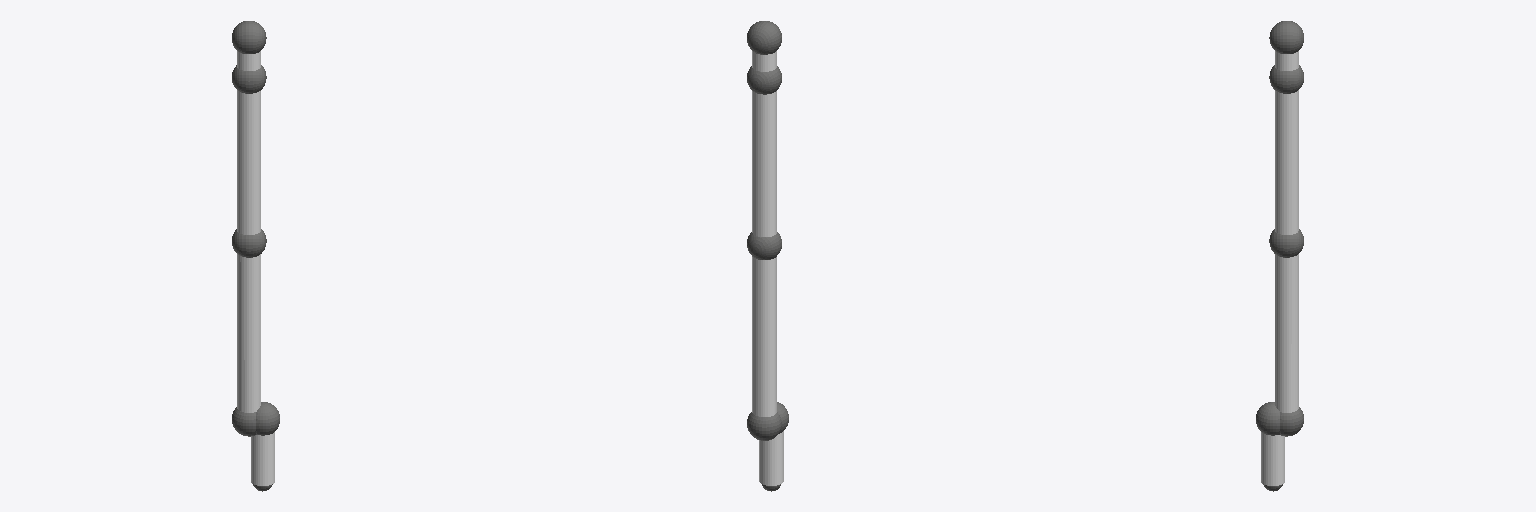
robot.urdf — a0912:
<?xml version='1.0' encoding='utf-8'?>
<robot name="a0912">
  <material name="black">
    <color rgba="0.0 0.0 0.0 1.0" />
  </material>
  <material name="white">
    <color rgba="1.0 1.0 1.0 1.0" />
  </material>
  <material name="orange">
    <color rgba="1.0 0.4 0.0 1.0" />
  </material>
  <material name="dr_gray">
    <color rgba="0.490 0.490 0.486 1.0" />
  </material>
  <material name="dr_white">
    <color rgba="0.941 0.941 0.941 1.0" />
  </material>
  <material name="dr_blue">
    <color rgba="0 0 0.15 1" />
  </material>
  <link name="base_link">
    <inertial>
      <mass value="3.635" />
      <origin xyz="4e-06   -0.001016     0.08181" />
      <inertia ixx="0.02216" ixy="5.8001e-06" ixz="6.1941e-06" iyy="0.024835" iyz="-5.3034e-05" izz="0.021063" />
    </inertial>
    <visual><origin xyz="0.000000 0.000000 0.097500" rpy="0.000000 0.000000 0.000000" /><geometry><cylinder length="0.195000" radius="0.035000" /></geometry><material name="dr_white" /></visual><visual><origin xyz="0.000000 0.000000 0.195000" rpy="0.000000 0.000000 0.000000" /><geometry><sphere radius="0.050000" /></geometry><material name="dr_gray" /></visual><visual><origin xyz="0.000000 0.000000 0.000000" rpy="0.000000 0.000000 0.000000" /><geometry><sphere radius="0.030000" /></geometry><material name="dr_gray" /></visual></link>
  
  <joint name="joint_1" type="revolute">
    <parent link="base_link" />
    <child link="link_1" />
    <origin rpy="0 0 0" xyz="0 0 0.195" />
    <axis xyz="0 0 1" />
    <limit effort="411" lower="-6.2832" upper="6.2832" velocity="3.1416" />
    <dynamics friction="0" />
  </joint>
  <link name="link_1">
    <inertial>
      <mass value="7.863" />
      <origin xyz="4.4e-05    0.029982    -0.01112" />
      <inertia ixx="0.045839" ixy="1.2759e-05" ixz="-3.6168e-05" iyy="0.032913" iyz="-0.0029965" izz="0.044399" />
    </inertial>
    <visual><origin xyz="0.000000 0.019500 0.000000" rpy="0.000000 1.570796 1.570796" /><geometry><cylinder length="0.039000" radius="0.035000" /></geometry><material name="dr_white" /></visual><visual><origin xyz="0.000000 0.039000 0.000000" rpy="0.000000 0.000000 0.000000" /><geometry><sphere radius="0.050000" /></geometry><material name="dr_gray" /></visual><visual><origin xyz="0.000000 0.000000 0.000000" rpy="0.000000 0.000000 0.000000" /><geometry><sphere radius="0.030000" /></geometry><material name="dr_gray" /></visual></link>
  
  <joint name="joint_2" type="revolute">
    <parent link="link_1" />
    <child link="link_2" />
    <origin rpy="0 -1.571 -1.571" xyz="0 0.039 0" />
    <axis xyz="0 0 1" />
    <limit effort="411" lower="-6.2832" upper="6.2832" velocity="3.1416" />
    <dynamics friction="0" />
  </joint>
  <link name="link_2">
    <inertial>
      <mass value="10.985" />
      <origin xyz="0.19748    0.001426     0.13191" />
      <inertia ixx="0.04446" ixy="-0.0049948" ixz="-0.010992" iyy="0.67642" iyz="-2.8483e-05" izz="0.67428" />
    </inertial>
    <visual><origin xyz="0.280000 0.000000 0.000000" rpy="0.000000 1.570796 0.000000" /><geometry><cylinder length="0.560000" radius="0.035000" /></geometry><material name="dr_white" /></visual><visual><origin xyz="0.560000 0.000000 0.000000" rpy="0.000000 0.000000 0.000000" /><geometry><sphere radius="0.050000" /></geometry><material name="dr_gray" /></visual><visual><origin xyz="0.000000 0.000000 0.000000" rpy="0.000000 0.000000 0.000000" /><geometry><sphere radius="0.030000" /></geometry><material name="dr_gray" /></visual></link>
  
  <joint name="joint_3" type="revolute">
    <parent link="link_2" />
    <child link="link_3" />
    <origin rpy="0 0 1.571" xyz="0.56 0 0" />
    <axis xyz="0 0 1" />
    <limit effort="194" lower="-2.7925" upper="2.7925" velocity="3.1416" />
    <dynamics friction="0" />
  </joint>
  <link name="link_3">
    <inertial>
      <mass value="2.881" />
      <origin xyz="8.5e-05   -0.002513    0.032058" />
      <inertia ixx="0.012756" ixy="-5.4257e-06" ixz="1.6402e-05" iyy="0.011416" iyz="-0.0001989" izz="0.0080652" />
    </inertial>
    <visual><origin xyz="0.000000 -0.258000 0.000000" rpy="0.000000 1.570796 -1.570796" /><geometry><cylinder length="0.516000" radius="0.035000" /></geometry><material name="dr_white" /></visual><visual><origin xyz="0.000000 -0.516000 0.000000" rpy="0.000000 0.000000 0.000000" /><geometry><sphere radius="0.050000" /></geometry><material name="dr_gray" /></visual><visual><origin xyz="0.000000 0.000000 0.000000" rpy="0.000000 0.000000 0.000000" /><geometry><sphere radius="0.030000" /></geometry><material name="dr_gray" /></visual></link>
  
  <joint name="joint_4" type="revolute">
    <parent link="link_3" />
    <child link="link_4" />
    <origin rpy="1.571 0 0" xyz="0 -0.516 0" />
    <axis xyz="0 0 1" />
    <limit effort="50" lower="-6.2832" upper="6.2832" velocity="6.2832" />
    <dynamics friction="0" />
  </joint>
  <link name="link_4">
    <inertial>
      <mass value="3.273" />
      <origin xyz="-9.6e-05    0.085314    -0.13975" />
      <inertia ixx="0.12246" ixy="2.3905e-05" ixz="2.5022e-05" iyy="0.11307" iyz="-0.027995" izz="0.017186" />
    </inertial>
    <visual><origin xyz="0.000000 0.000000 0.000000" rpy="0.000000 0.000000 0.000000" /><geometry><sphere radius="0.030000" /></geometry><material name="dr_gray" /></visual></link>
  
  <joint name="joint_5" type="revolute">
    <parent link="link_4" />
    <child link="link_5" />
    <origin rpy="-1.571 0 0" xyz="0 0 0" />
    <axis xyz="0 0 1" />
    <limit effort="50" lower="-6.2832" upper="6.2832" velocity="6.2832" />
    <dynamics friction="0" />
  </joint>
  <link name="link_5">
    <inertial>
      <mass value="2.141" />
      <origin xyz="0.000109   -0.003286     0.01477" />
      <inertia ixx="0.013145" ixy="-4.7132e-06" ixz="8.5804e-06" iyy="0.0073072" iyz="-5.999e-05" izz="0.0090476" />
    </inertial>
    <visual><origin xyz="0.000000 -0.062000 0.000000" rpy="0.000000 1.570796 -1.570796" /><geometry><cylinder length="0.124000" radius="0.035000" /></geometry><material name="dr_white" /></visual><visual><origin xyz="0.000000 -0.124000 0.000000" rpy="0.000000 0.000000 0.000000" /><geometry><sphere radius="0.050000" /></geometry><material name="dr_gray" /></visual><visual><origin xyz="0.000000 0.000000 0.000000" rpy="0.000000 0.000000 0.000000" /><geometry><sphere radius="0.030000" /></geometry><material name="dr_gray" /></visual></link>
  
  <joint name="joint_6" type="revolute">
    <parent link="link_5" />
    <child link="link_6" />
    <origin rpy="1.571 0 0" xyz="0 -0.124 0" />
    <axis xyz="0 0 1" />
    <limit effort="50" lower="-6.2832" upper="6.2832" velocity="6.2832" />
    <dynamics friction="0" />
  </joint>
  <link name="link_6">
    <inertial>
      <mass value="0.784" />
      <origin xyz="-1.9e-05      -6e-06    -0.05227" />
      <inertia ixx="0.0067403" ixy="5.2373e-06" ixz="2.4957e-06" iyy="0.0048015" iyz="8.3671e-06" izz="0.0059696" />
    </inertial>
    <visual><origin xyz="0.000000 0.000000 0.000000" rpy="0.000000 0.000000 0.000000" /><geometry><sphere radius="0.030000" /></geometry><material name="dr_gray" /></visual></link>
</robot>

--- Facts derived from the render (not from the file) ---
The picture shows the robot from 3 angles, left to right: view 1: azimuth 90°, elevation 25°; view 2: azimuth 150°, elevation 25°; view 3: azimuth 270°, elevation 25°; orthographic projection.
Robot: a0912 — 7 links, 6 joints (6 revolute); root link base_link; default pose: every joint at zero.
Links seen in each view (by area): view 1: link_2, link_3, base_link, link_5, link_1; view 2: link_2, link_3, base_link, link_5, link_1; view 3: link_2, link_3, base_link, link_5, link_1.
Boxes of the visible links, bbox=[...] form: link_2: bbox=[232, 229, 266, 412]; link_3: bbox=[232, 65, 266, 234]; base_link: bbox=[251, 402, 279, 491]; link_5: bbox=[232, 21, 266, 70]; link_1: bbox=[232, 407, 255, 436]; link_2: bbox=[747, 232, 781, 416]; link_3: bbox=[747, 66, 781, 236]; base_link: bbox=[759, 402, 788, 491]; link_5: bbox=[747, 21, 781, 71]; link_1: bbox=[747, 412, 781, 440]; link_2: bbox=[1269, 229, 1303, 412]; link_3: bbox=[1269, 65, 1303, 234]; base_link: bbox=[1256, 402, 1284, 491]; link_5: bbox=[1269, 21, 1303, 70]; link_1: bbox=[1280, 407, 1303, 436].
Size in the robot's own frame: 0.1001 by 0.1392 by 1.48 metres.
Geometry: primitives only (box / cylinder / sphere), no mesh files.
